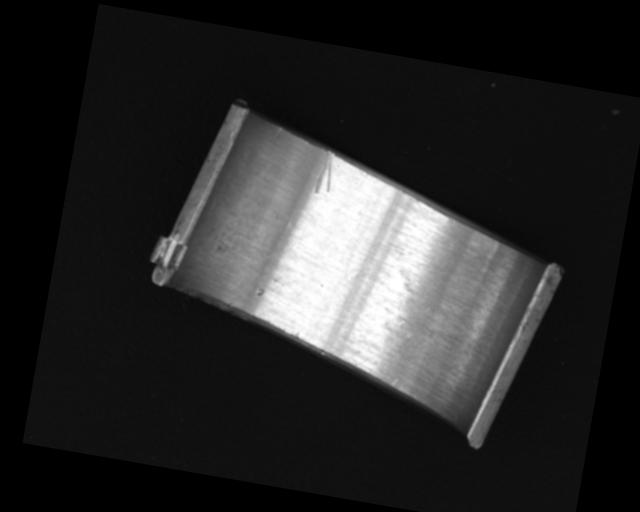bruise: (253, 286, 265, 298)
nick: (312, 149, 339, 196), (272, 124, 283, 138)
